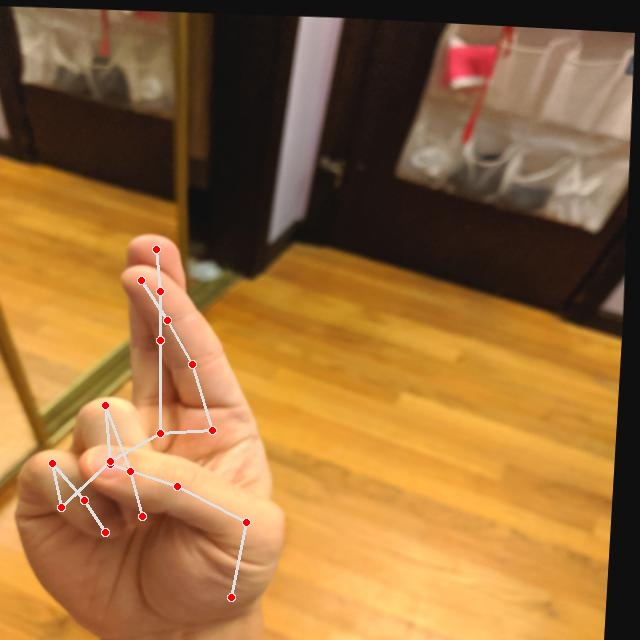R: (1, 217, 320, 639)
